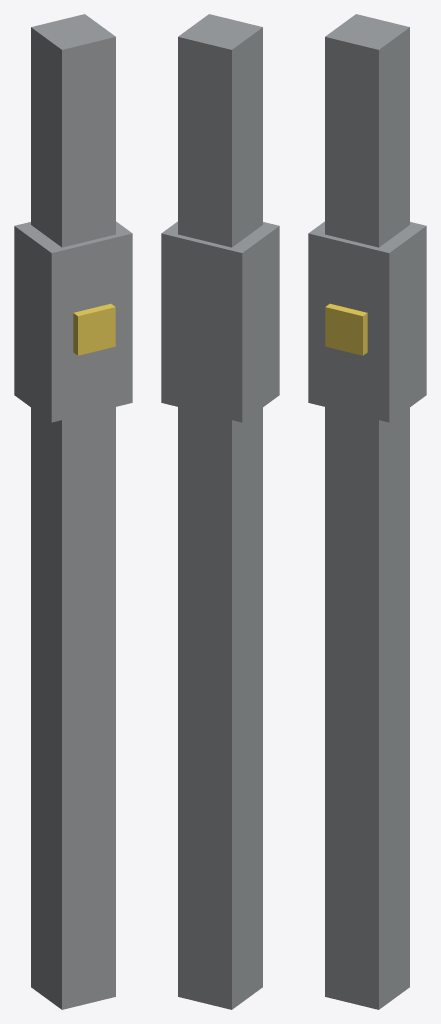
Rendered from dm_freightbutton.glb.
3 renders of one model, left to right at view 1: azimuth 30°, elevation 25°; view 2: azimuth 150°, elevation 25°; view 3: azimuth 330°, elevation 25°, orthographic.
Visible parts, largest first — view 1: dm_freightbutton; view 2: dm_freightbutton; view 3: dm_freightbutton.
Part boxes in pixels (x1=…): dm_freightbutton: x1=14, y1=14, x2=132, y2=1009; dm_freightbutton: x1=161, y1=14, x2=279, y2=1009; dm_freightbutton: x1=308, y1=14, x2=426, y2=1009.
Bounding box in the file's own units: 0.15 × 1.7 × 0.135.
